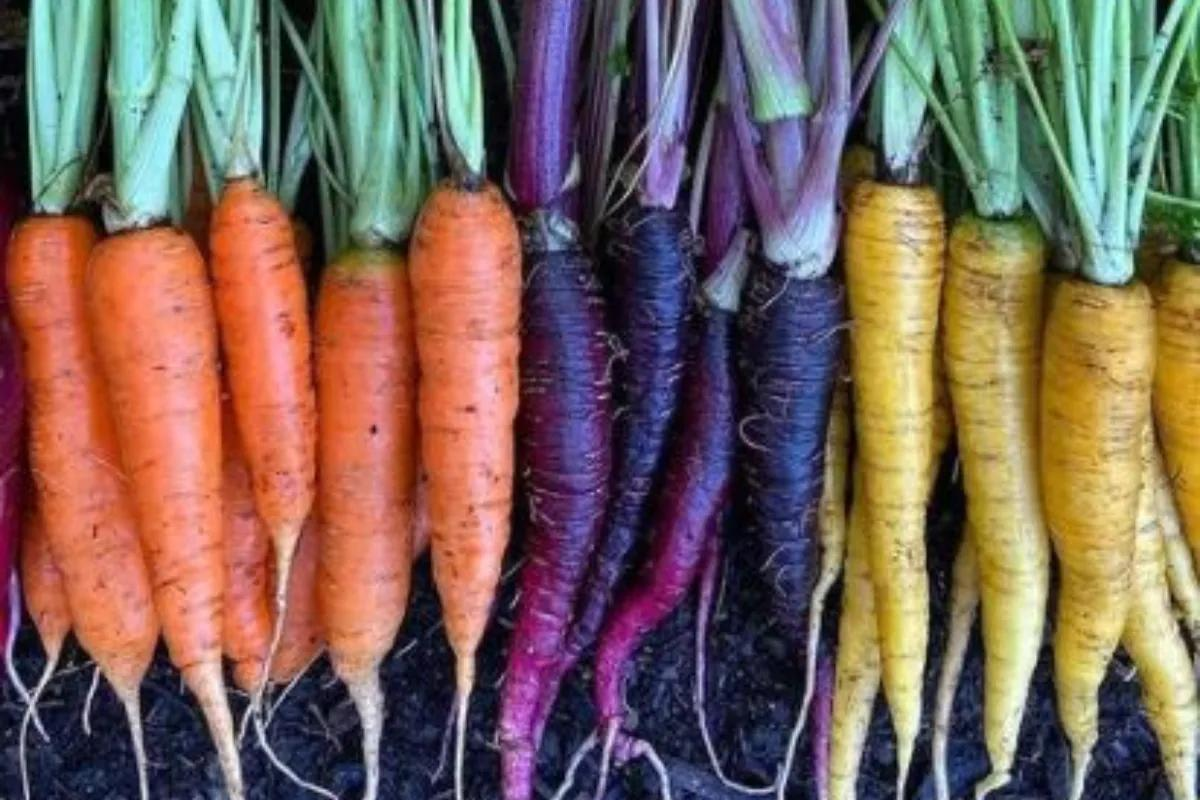carrot: (3, 4, 485, 800), (22, 216, 486, 774)
